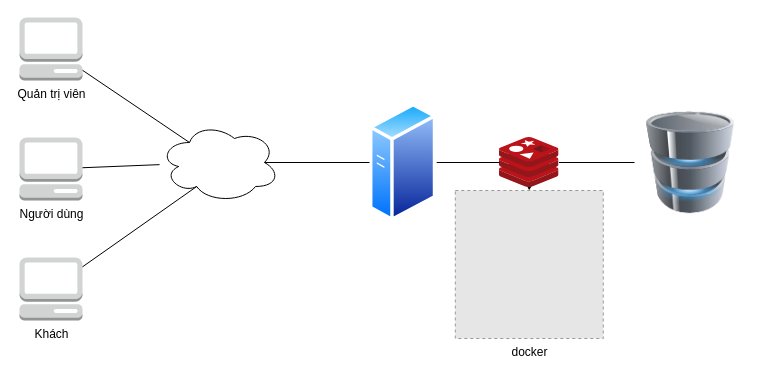
Image size: 764x377. Some labels were removed from this diagram. Grey dashed boxes stand in for pictures. Each missing label, with the box of its shape:
internet: (158, 122, 280, 202)
mongoDB: (634, 111, 746, 213)
server: (369, 102, 436, 222)
